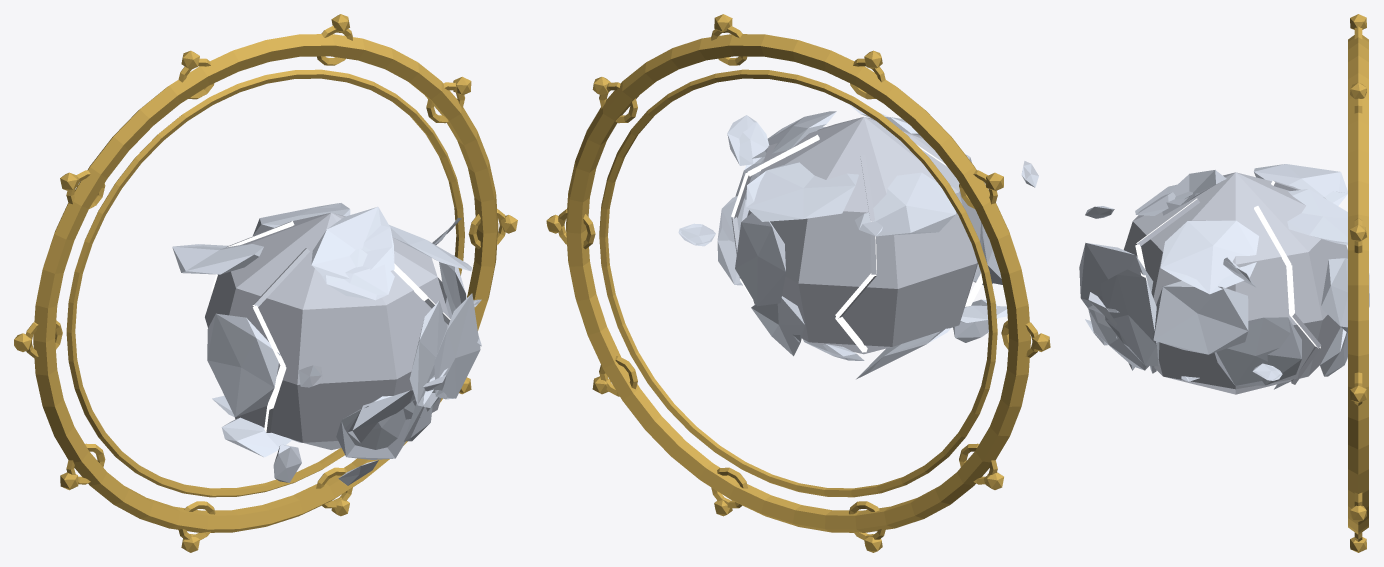
The model's file is fruto-espelho.glb.
3 views of the same model, side by side, from view 1: azimuth 30°, elevation 25°; view 2: azimuth 150°, elevation 25°; view 3: azimuth 270°, elevation 25° (orthographic). The views are drawn at different scales.
Visible parts, largest first — view 1: Fruit_Body; view 2: Fruit_Body; view 3: Fruit_Body.
Part boxes in pixels (x1=…): Fruit_Body: x1=14, y1=14, x2=517, y2=552; Fruit_Body: x1=546, y1=14, x2=1050, y2=552; Fruit_Body: x1=1079, y1=14, x2=1369, y2=552.
Size of the model in its own units: 2.21 by 2.12 by 1.18.
